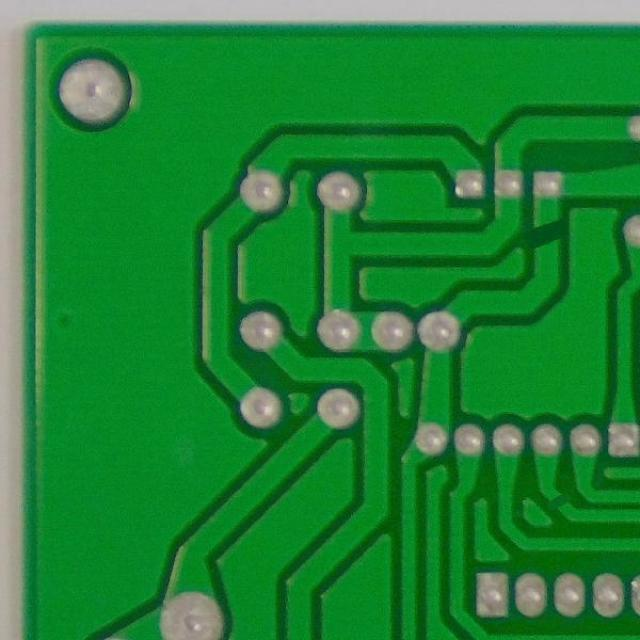Open_Circuit: (524, 207, 570, 260), (544, 486, 576, 516)
